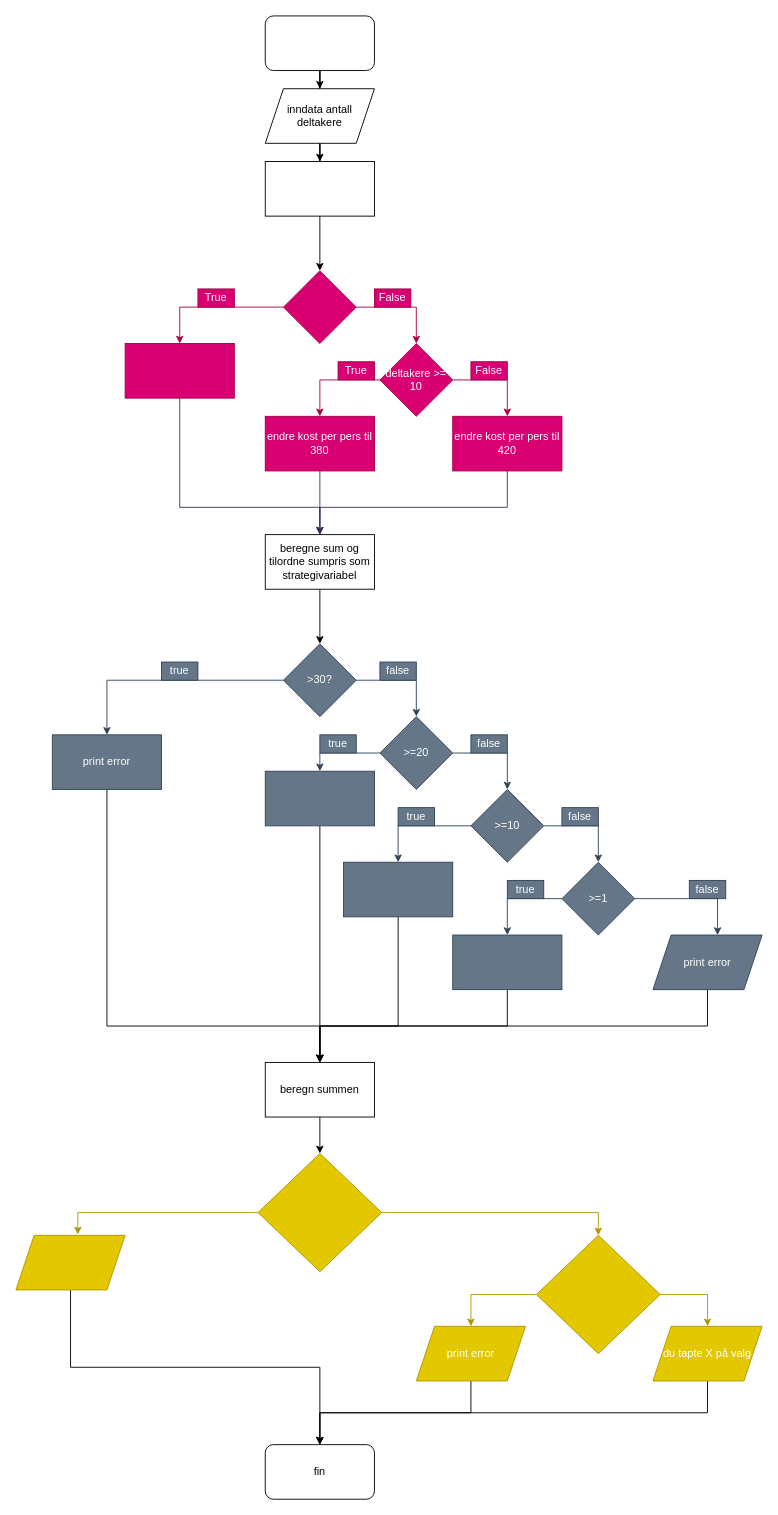
Image size: 778x1515. Some labels were removed from this diagram. The box of each missing label's shape, as (x1, y1, x2, y2) in pixels:
deklarerer og tilordne variabler: (264, 161, 374, 216)
deltakere >= 20: (283, 270, 356, 344)
du tjente X på valg: (15, 1234, 125, 1290)
endre kost per pers til 350: (124, 343, 234, 398)
er den 0?: (536, 1234, 660, 1354)
har ny strategi mer $ enn gammel?: (257, 1153, 382, 1272)
sett baneleie 1000 sett deltakerpris 450: (264, 770, 374, 826)
sett baneleie 2000 sett deltakerpris 400: (343, 861, 453, 917)
sett baneleie 3500 sett deltakerpris 350: (452, 934, 562, 990)
start: (264, 15, 374, 71)
